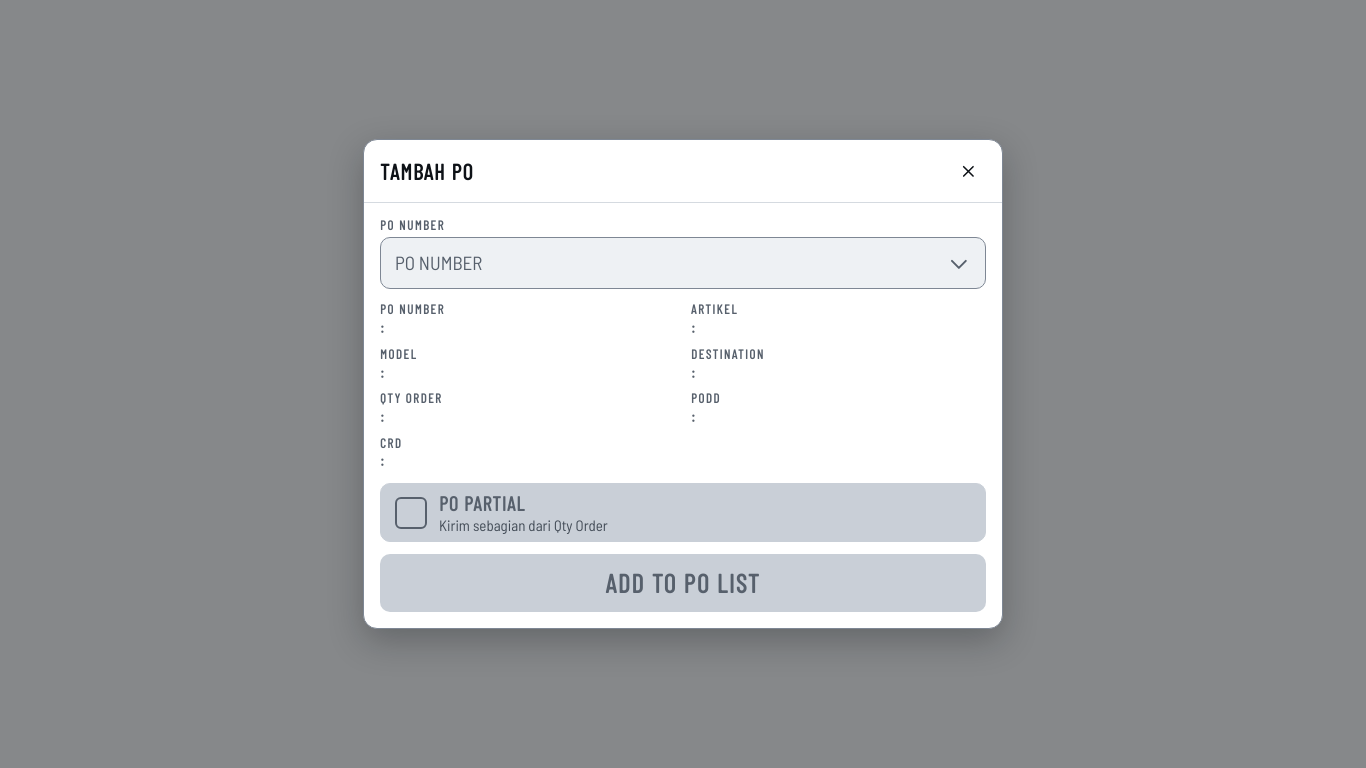
Test: S4 Add PO search (doc 05 §9.1, FR-03.2) › shows the API's detail when the search is refused
Click the button "PO NUMBER".
click(439, 263)  # box [380, 237, 986, 289]
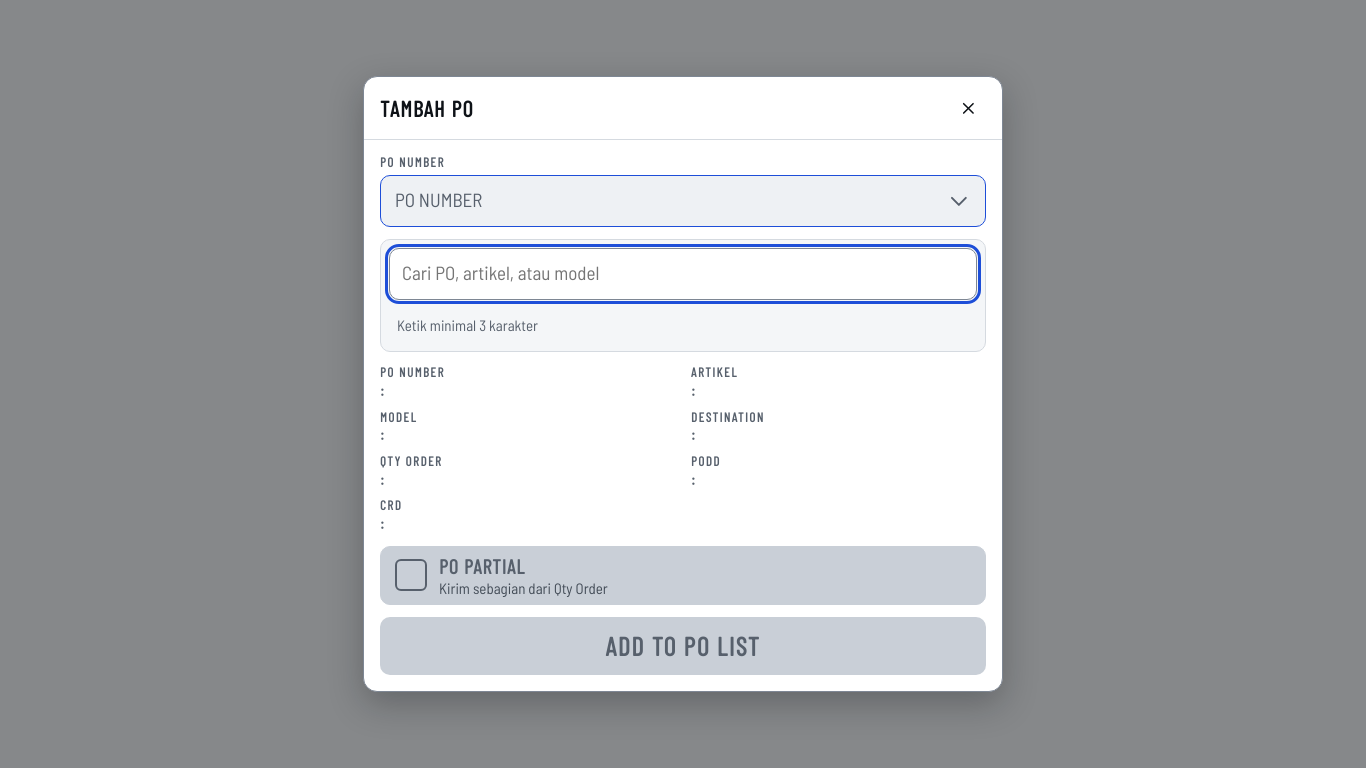
Type "0903" into the search field labelled "Cari PO, artikel, atau model".
click(683, 274); type("0903")  # box [389, 248, 977, 300]
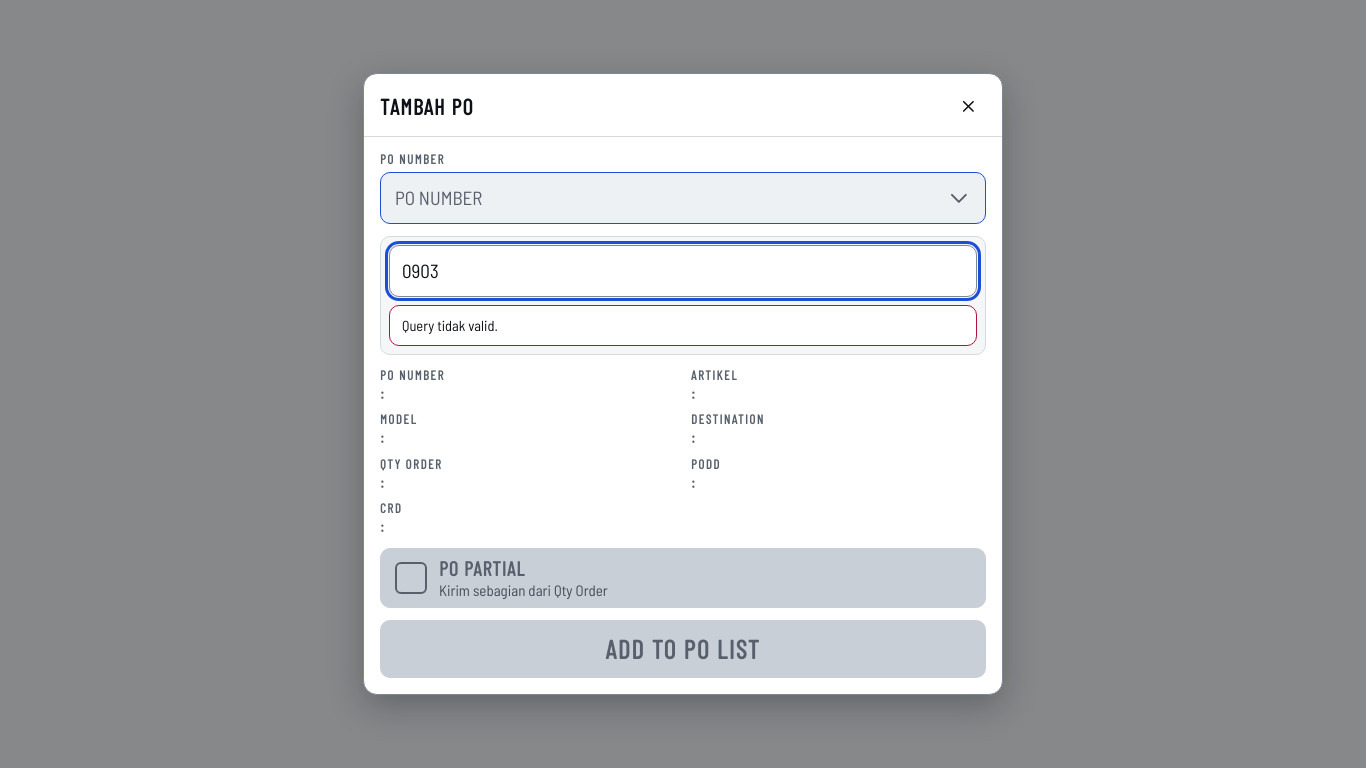
Expected: the message reads "Query tidak valid.", [402, 316, 498, 334]
